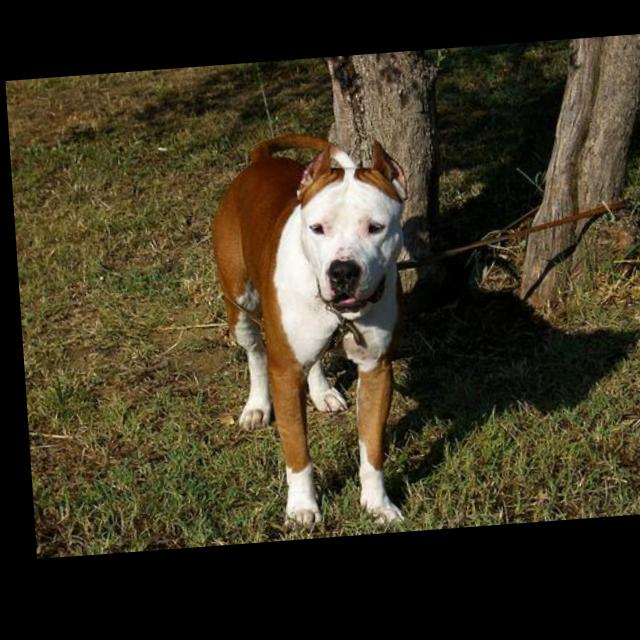amstaff: (205, 132, 424, 542)
